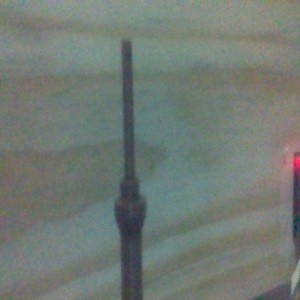obeng: (113, 37, 148, 300)
